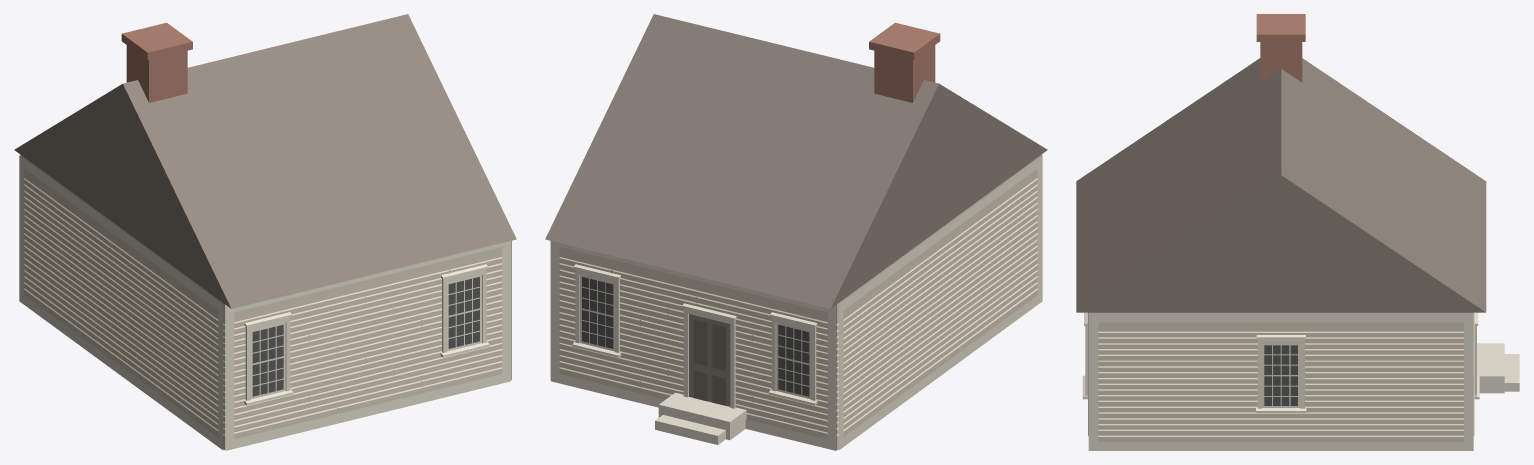
The model's file is recon_1835_blk_south_water_clark_d4_02__inferred_1835.glb.
3 renders of one model, left to right at view 1: azimuth 30°, elevation 25°; view 2: azimuth 150°, elevation 25°; view 3: azimuth 270°, elevation 25°, orthographic. The views are drawn at different scales.
Parts seen in each view (by area): view 1: recon_1835_blk_south_water_clark_d4_02__inferred_1835; view 2: recon_1835_blk_south_water_clark_d4_02__inferred_1835; view 3: recon_1835_blk_south_water_clark_d4_02__inferred_1835.
Part boxes in pixels (x1,y1,x2,y2): recon_1835_blk_south_water_clark_d4_02__inferred_1835: (14,14,516,450); recon_1835_blk_south_water_clark_d4_02__inferred_1835: (545,14,1047,450); recon_1835_blk_south_water_clark_d4_02__inferred_1835: (1076,14,1519,450).
Bounding box in the file's own units: 6.36 × 6.85 × 8.86.
